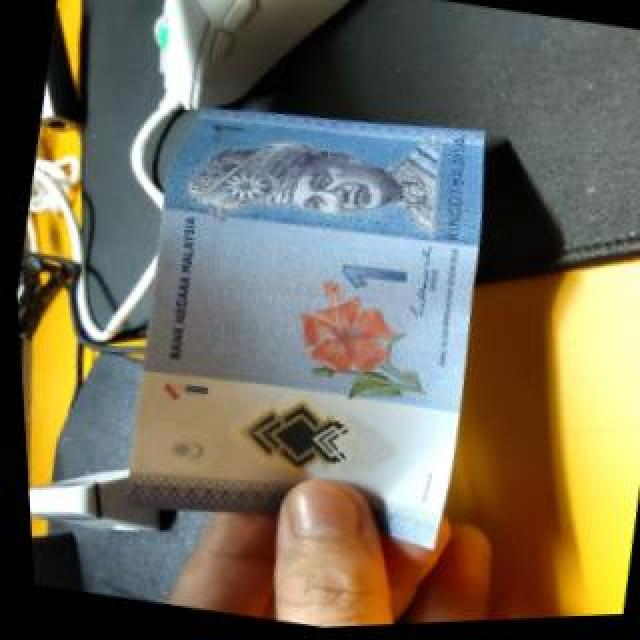1 Ringgit: (94, 56, 519, 564)
